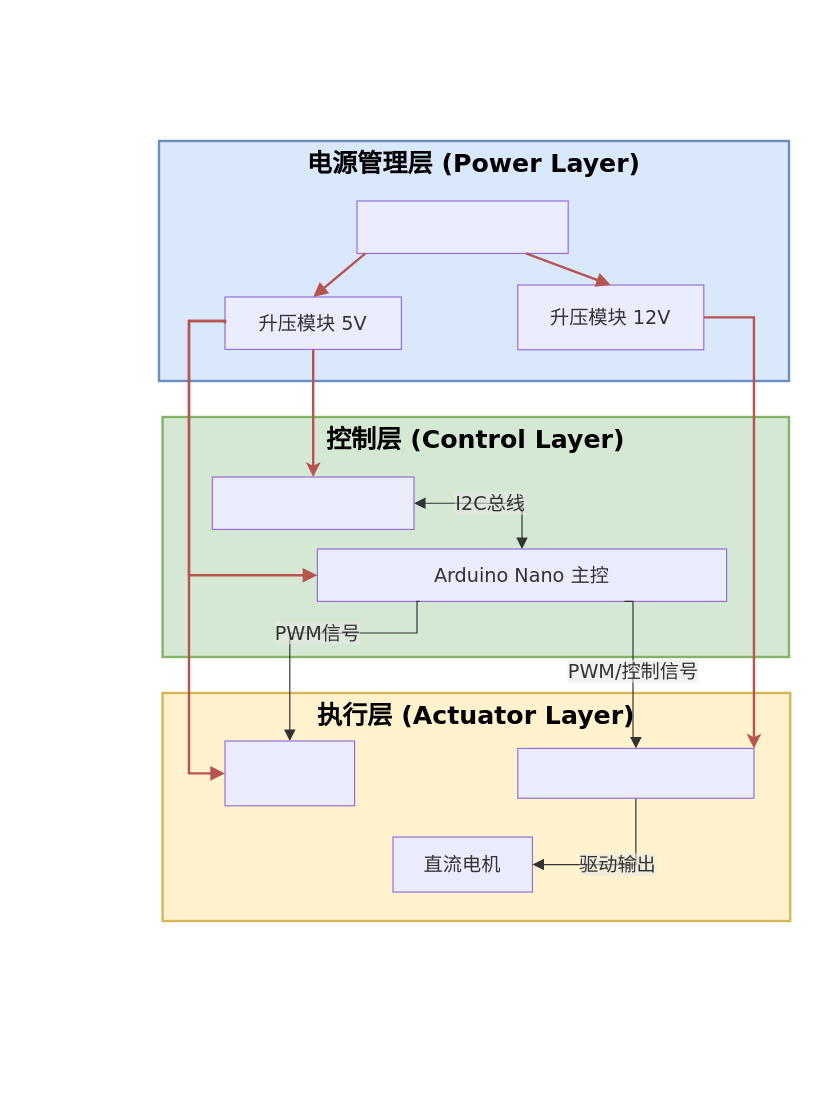
This 836x1117 diagram has some shape labels left out. The centre of each missing label's shape, as x and y in pixels:
"18650 电池 3.6V" goes at point (462, 226).
"TB6612FNG 电机驱动" goes at point (635, 772).
"小舵机" goes at point (289, 773).
"陀螺仪模块" goes at point (312, 502).
